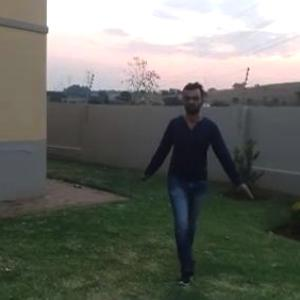land: (121, 66, 268, 293)
